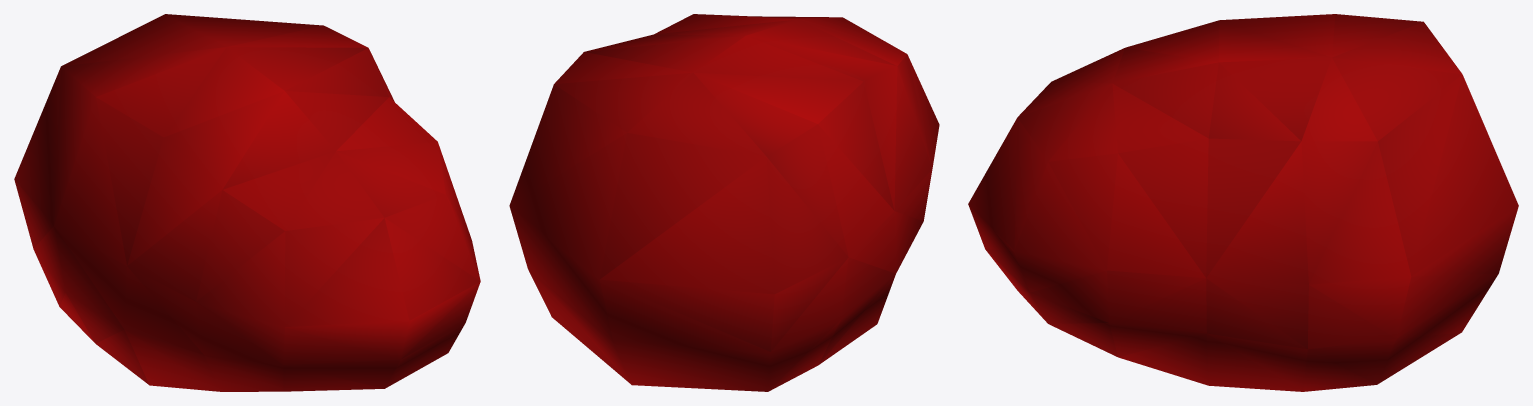
Rendered from sandrock2.fbx.
The picture shows the model from 3 angles, left to right: view 1: azimuth 30°, elevation 25°; view 2: azimuth 150°, elevation 25°; view 3: azimuth 270°, elevation 25°; orthographic projection. The views are drawn at different scales.
Parts seen in each view (by area): view 1: SmallSandChunk.008; view 2: SmallSandChunk.008; view 3: SmallSandChunk.008.
Boxes of the visible parts, box(x1,y1,x2,y2) form: SmallSandChunk.008: box(14, 14, 480, 391); SmallSandChunk.008: box(509, 14, 939, 391); SmallSandChunk.008: box(968, 14, 1518, 391).
Bounding box in the file's own units: 230 × 192 × 330.
